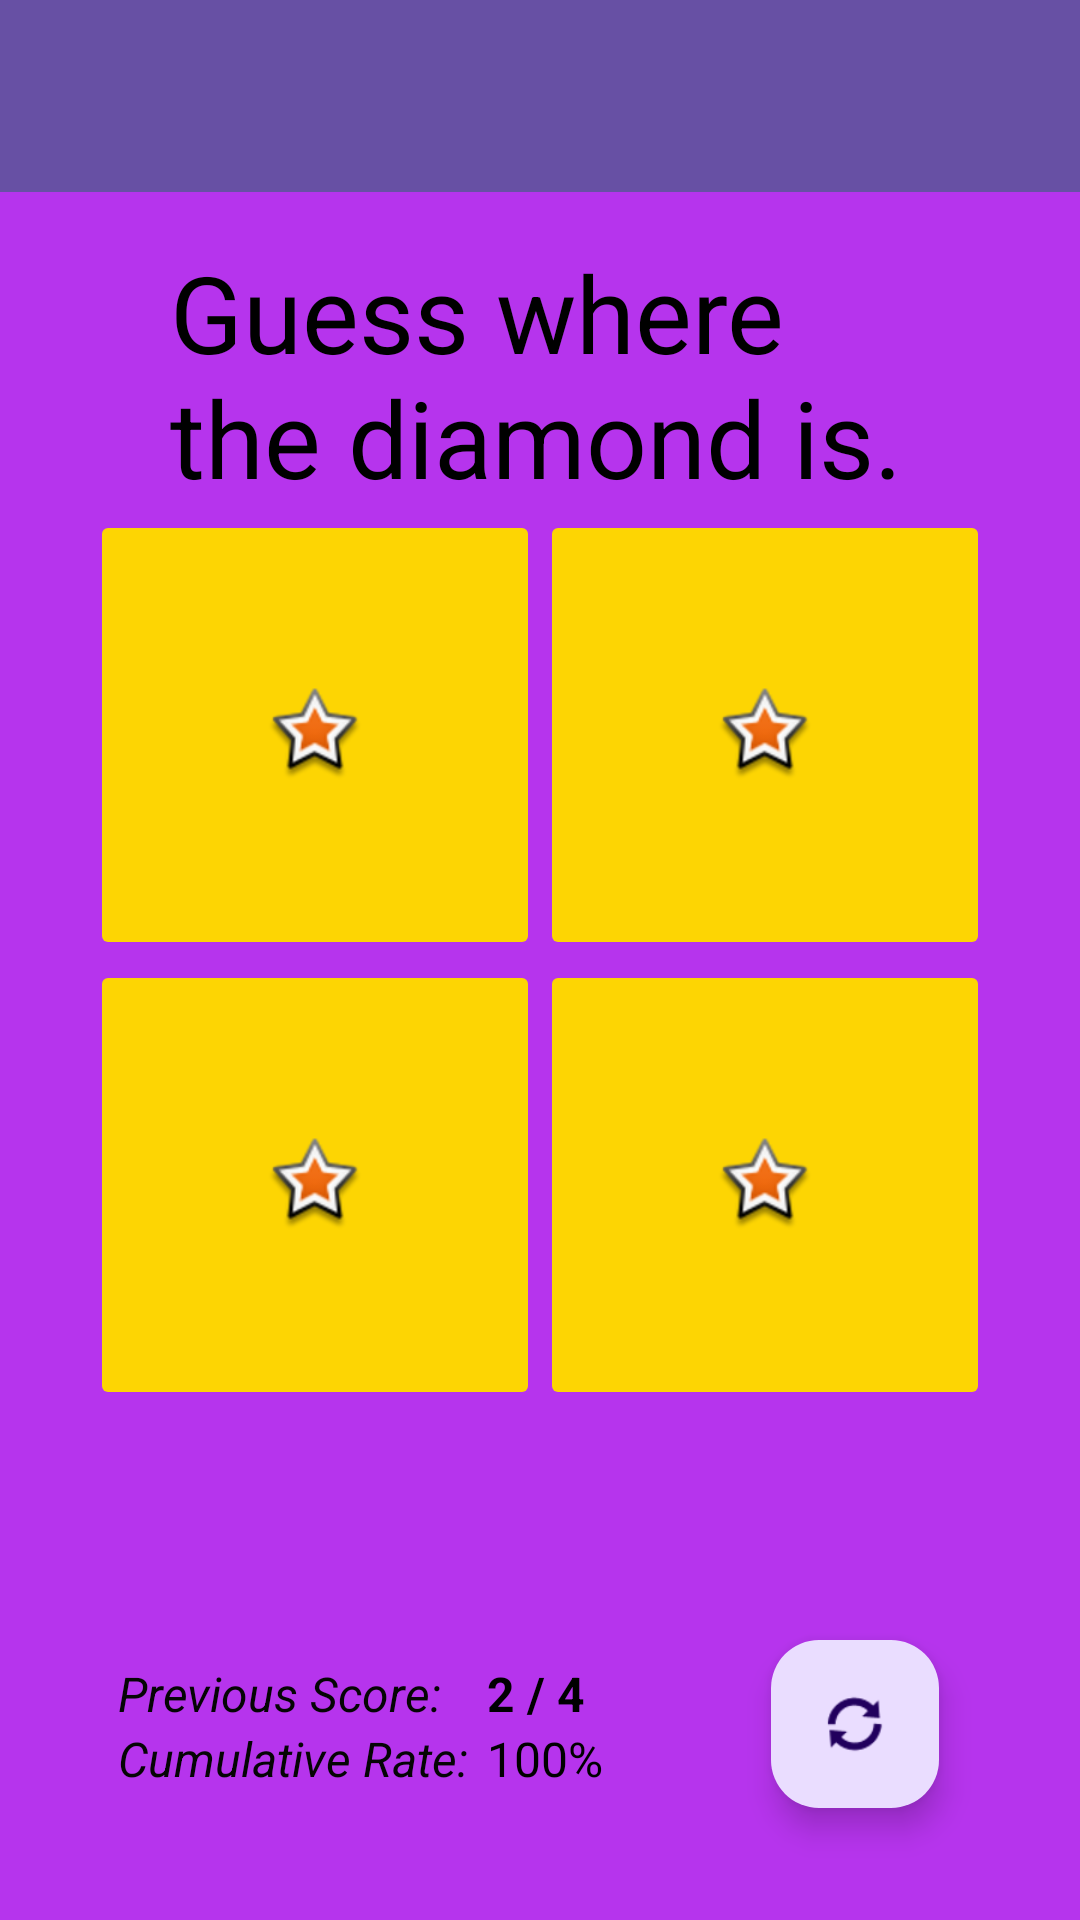

Where to tap for icons on this 1080 x 1920 app screen, as (x=x, y=y):
popup sync: (x=855, y=1724)
